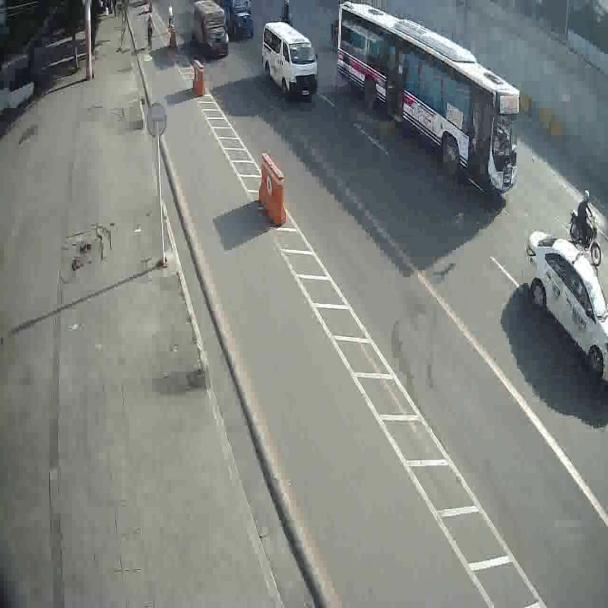motorcyclist: (568, 191, 602, 268)
vehicle: (335, 1, 520, 207), (518, 226, 607, 396), (262, 16, 318, 107), (191, 1, 231, 55), (216, 1, 253, 45)
